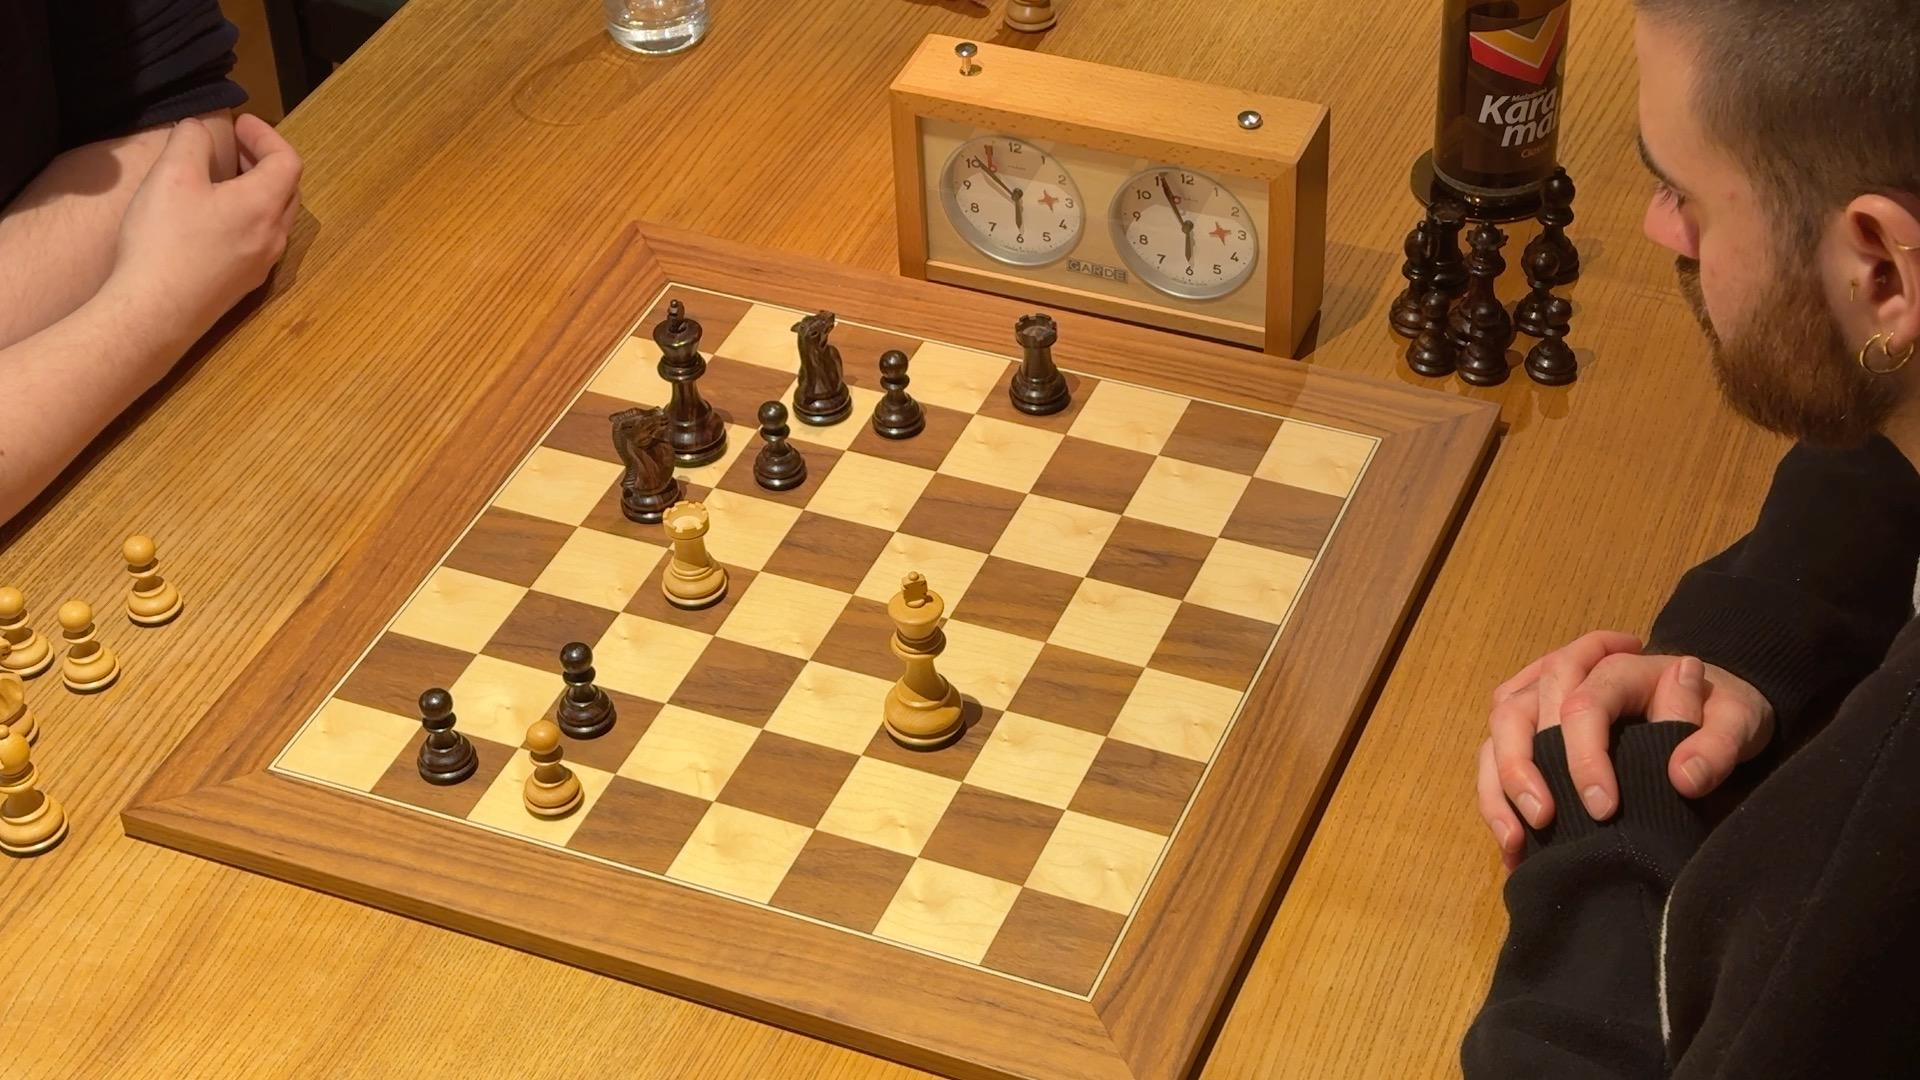Black King: (646, 294, 731, 468)
Black Knight: (786, 302, 861, 435), (608, 401, 688, 524)
Black Pawn: (550, 638, 616, 746), (415, 684, 483, 789), (869, 345, 928, 444), (748, 401, 807, 495)
Black Rook: (998, 309, 1077, 425)
White King: (880, 568, 972, 753)
White Pawn: (516, 720, 589, 827)
White Rook: (658, 497, 729, 615)
